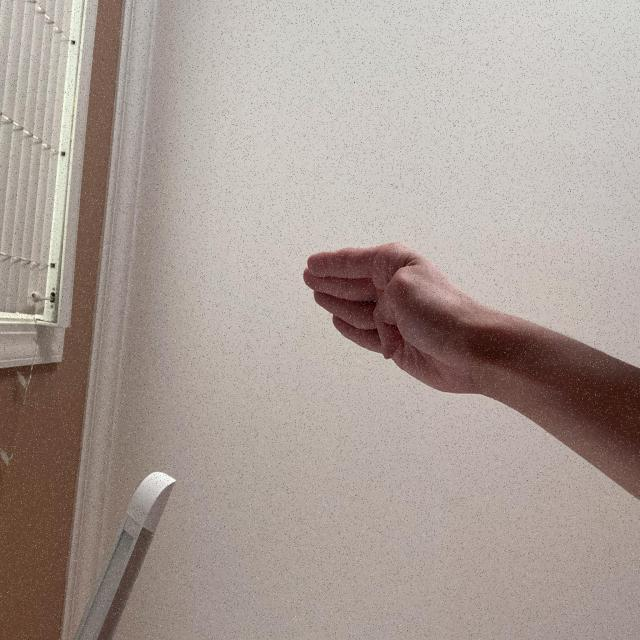B: (177, 396, 302, 640)
